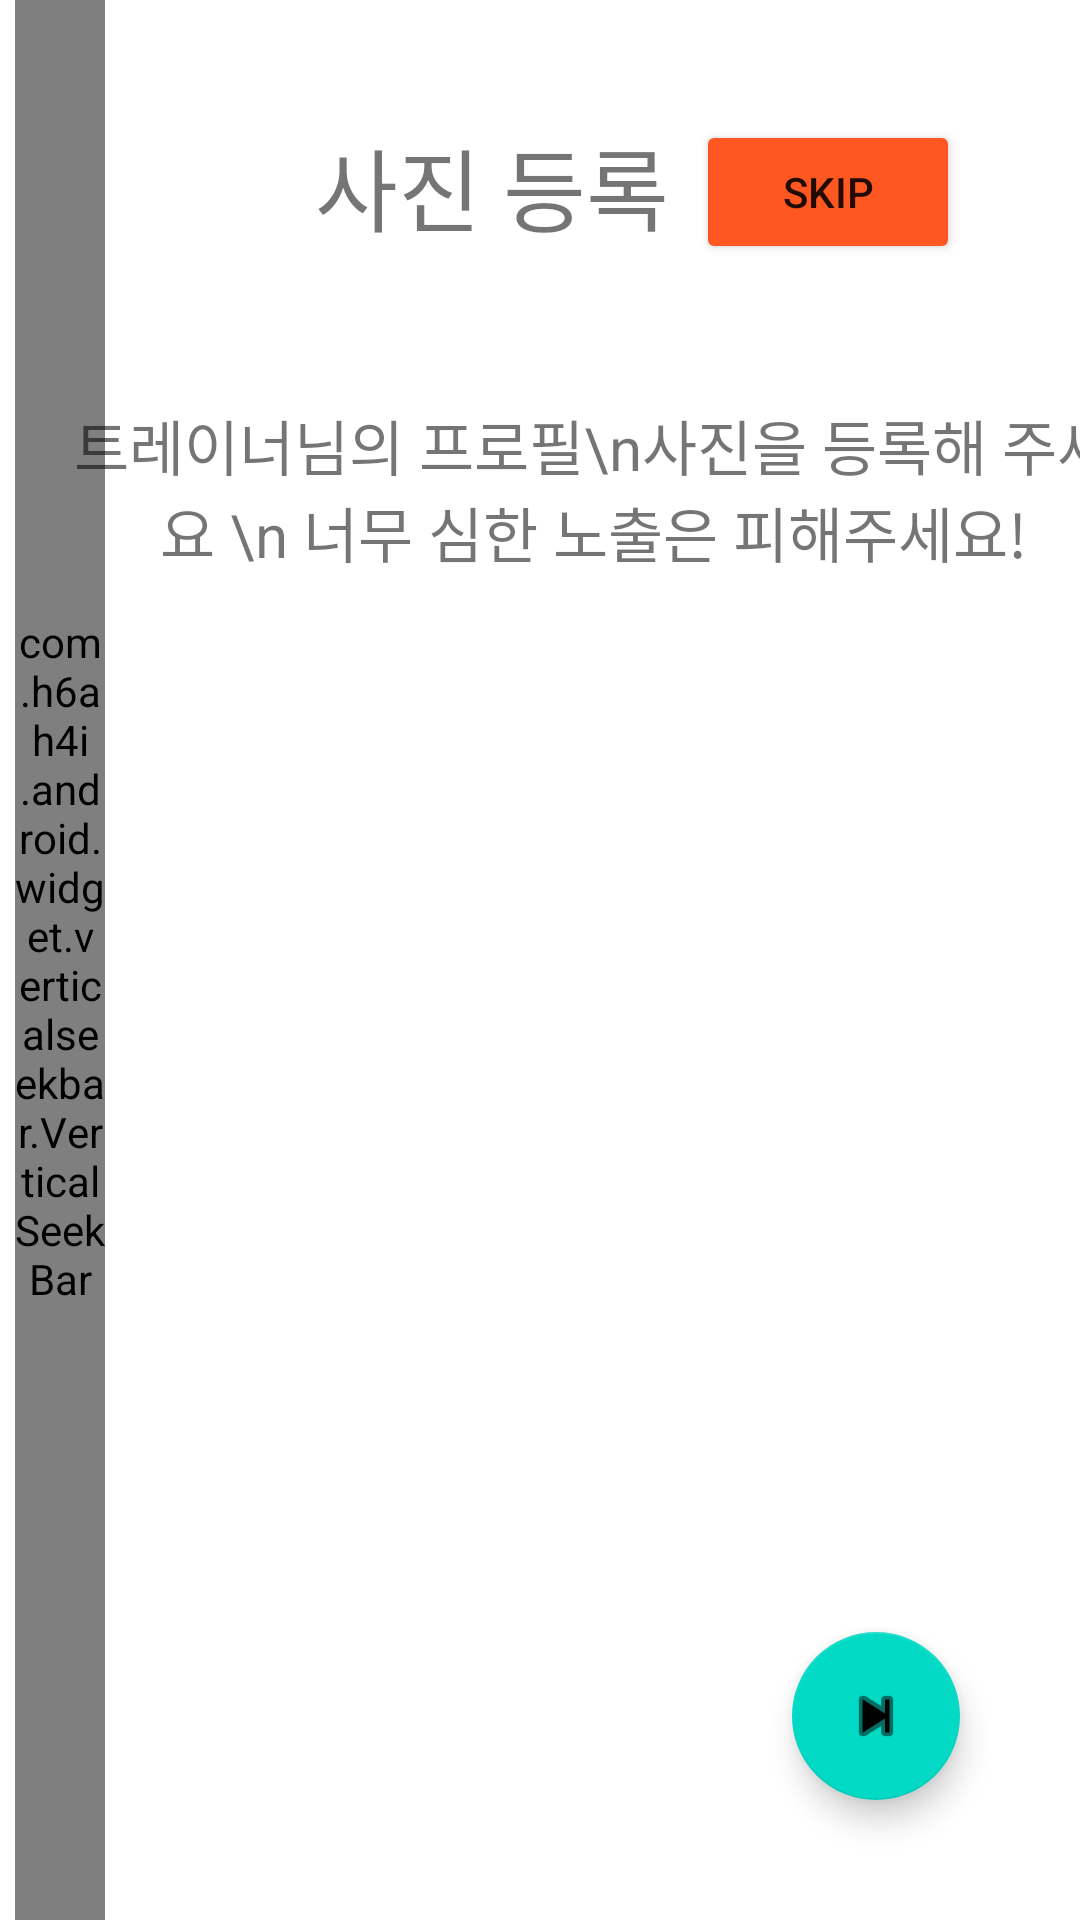

Where icons sit on this 1080*1920 app screen, as (x1, y1, x2, y2):
next: (792, 1632, 960, 1800)
